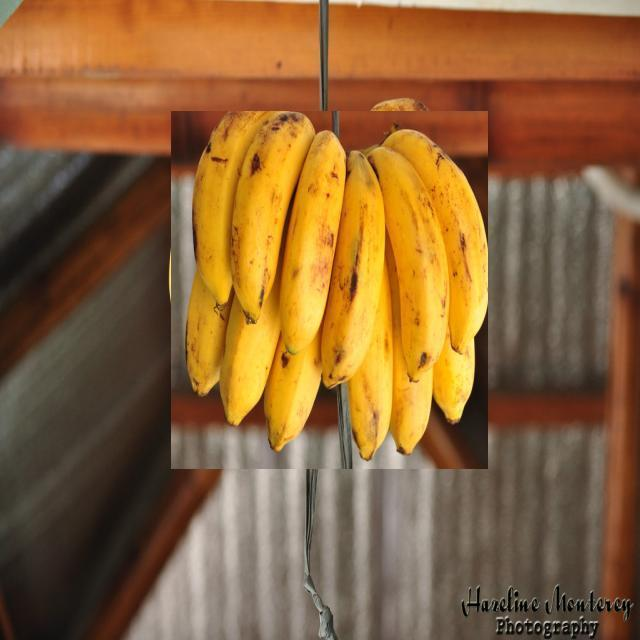Banana: (171, 111, 488, 469)
